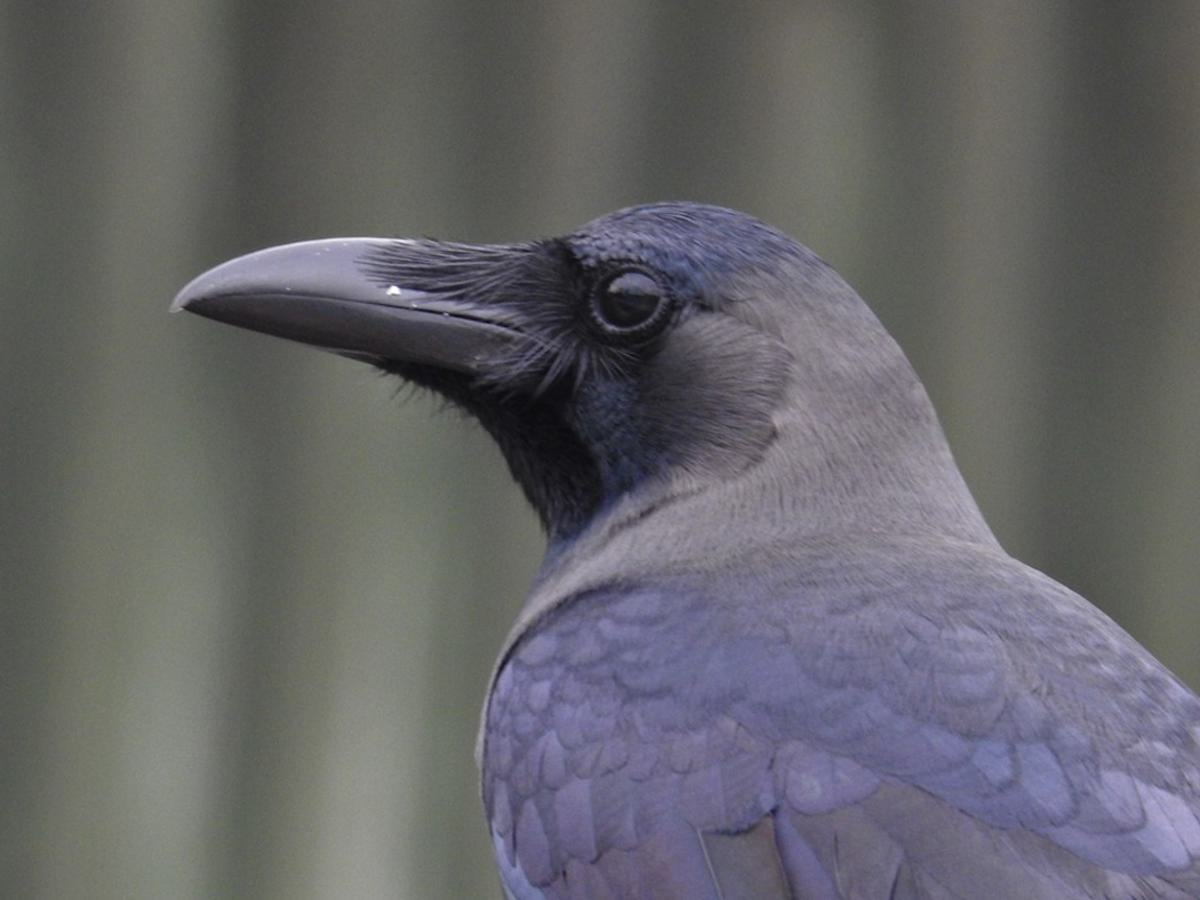crow: (158, 183, 1200, 900)
